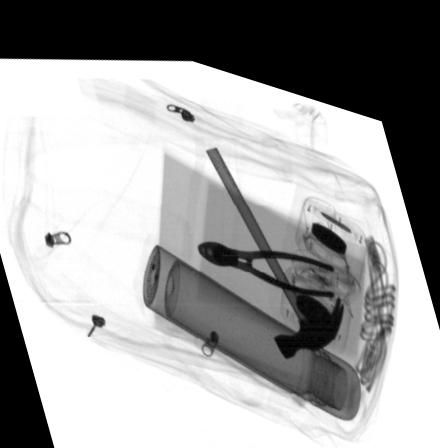Hammer: (203, 133, 344, 341)
Pliers: (195, 225, 333, 277)
